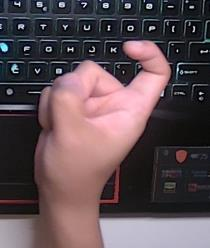anticlockwise: (30, 37, 176, 195)
